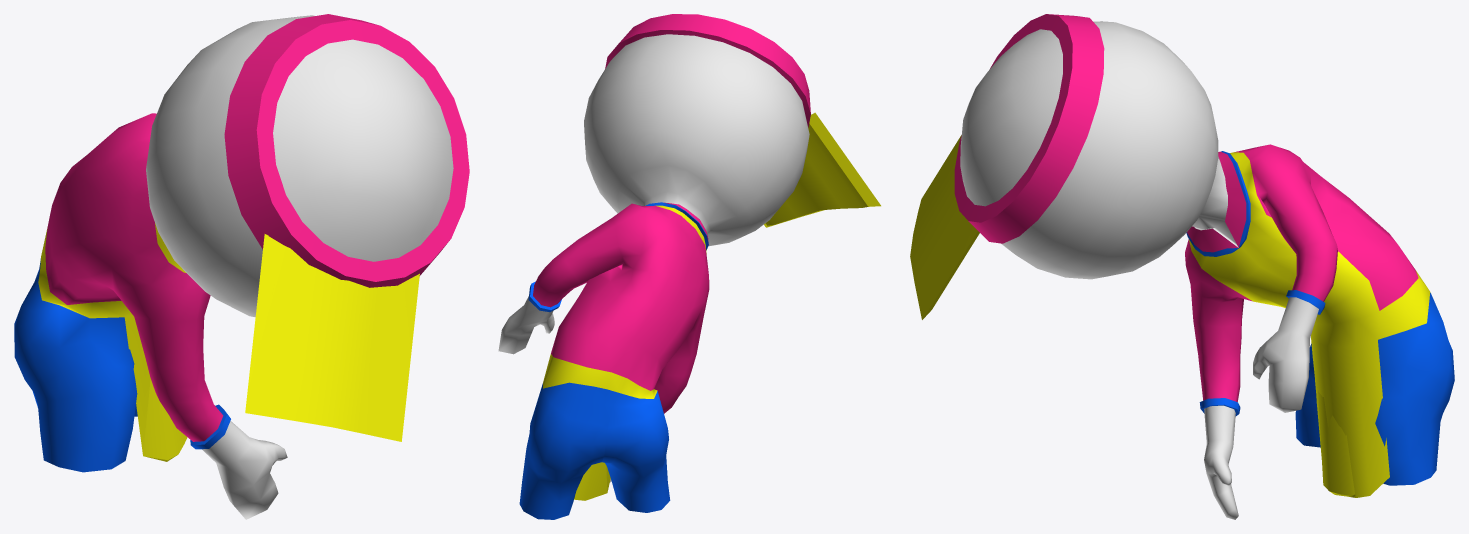
Rendered from cashier.fbx.
3 renders of one model, left to right at view 1: azimuth 30°, elevation 25°; view 2: azimuth 150°, elevation 25°; view 3: azimuth 270°, elevation 25°, orthographic. The views are drawn at different scales.
Visible parts, largest first — view 1: cashier; view 2: cashier; view 3: cashier.
Boxes of the visible parts, x1=… form: cashier: x1=14, y1=14, x2=469, y2=519; cashier: x1=498, y1=14, x2=880, y2=519; cashier: x1=910, y1=14, x2=1454, y2=519.
Size of the model in its own units: 104 by 193 by 197.
